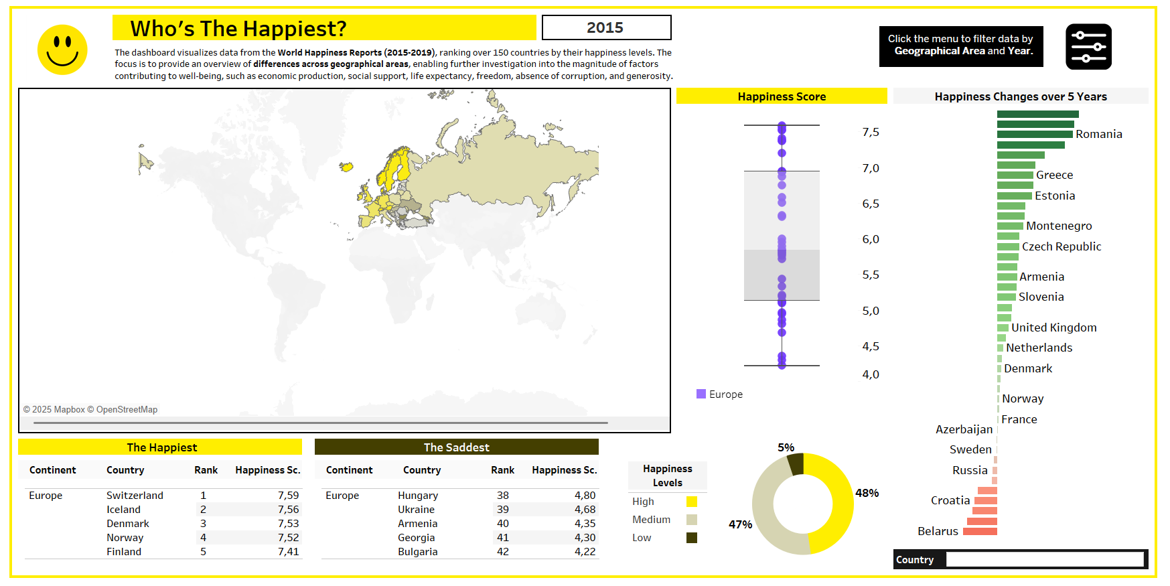

The page's visual inventory and layout, read from the dashboard file:
{"tool":"tableau","page":{"name":"Dashboard 1","canvas":[1720,860],"ordinal":0},"visuals":[{"type":"blank","box":[1175,7,308,32]},{"type":"blank","box":[1483,7,229,106]},{"type":"image","param":"Image/Smile.png","box":[12,12,141.2,109]},{"type":"text","box":[153.2,12,640.8,46]},{"type":"worksheet","title":"Selected Year","mark":"Automatic","box":[794,12,201,46]},{"type":"blank","box":[995,12,33,46]},{"type":"blank","box":[1028,12,264.5,109]},{"type":"text","box":[1292.5,12,264.5,92]},{"type":"blank","box":[1557,12,151,109]},{"type":"dashboard-object","box":[1578,29,72,69]},{"type":"text","box":[1175,39,308,32]},{"type":"text","box":[153.2,58,874.8,63]},{"type":"parameter","param":"[Parameters].[Parametro 2]","box":[1175,71,308,180]},{"type":"text","box":[1483,113,229,31]},{"type":"worksheet","title":"World Happiness Rank (Map)","mark":"Multipolygon","box":[12,121,983,524]},{"type":"text","box":[995,121,323,32]},{"type":"text","box":[1319,121,389,32]},{"type":"parameter","param":"[Parameters].[Parametro 1]","box":[1483,144,229,107]},{"type":"worksheet","title":"Global Happiness Score per Continent","mark":"Circle","rows":["Happiness Rank per Year (copia)_801922231594545152","Happiness Rank per Year (copia)_801922231594545152"],"box":[995,153,323,415]},{"type":"worksheet","title":"Happiness Score % Change (5y)","mark":"Automatic","rows":["Country"],"cols":["Calculation_801922231886446605"],"box":[1319,153,389,656.8]},{"type":"legend","title":"Global Happiness Score per Continent","param":"[federated.0av59c308uzitr1gjwh8u0oohdn7].[none:Continent:nk]","box":[995,568,323,29]},{"type":"text","box":[12,645,443,32]},{"type":"text","box":[455,645,443,32]},{"type":"blank","box":[922.7,645,126,33.5]},{"type":"worksheet","title":"Pie Chart","mark":"Pie","cols":["Calculation_927741547938185227","Calculation_927741547938185227"],"box":[1056.7,645,262.3,203]},{"type":"text","box":[12,677,443,32]},{"type":"text","box":[455,677,443,32]},{"type":"text","box":[922.7,678.5,126,46]},{"type":"worksheet","title":"Rank Happiness per Continent (Top)","mark":"Text","rows":["Continent","Country"],"box":[12,709,443,139]},{"type":"worksheet","title":"Rank Happiness per Continent (Worst)","mark":"Text","rows":["Continent","Country"],"box":[455,709,443,139]},{"type":"worksheet","title":"Pie Chart labels","mark":"Square","rows":["Calculation_927741547845664770"],"box":[922.7,724.5,126,90]},{"type":"filter","title":"Happiness Score % Change (5y)","param":"[federated.0av59c308uzitr1gjwh8u0oohdn7].[none:Country:nk]","box":[1319,809.8,389,38]},{"type":"blank","box":[922.7,814.5,126,33.5]}]}

Visuals, with their boxes in screenshot pixels (x1, y1, x2, y2), scaled from the page's 1720x860 canvas onto the 1170x586 screenshot:
blank: <region>799, 5, 1009, 27</region>
blank: <region>1009, 5, 1165, 77</region>
image: <region>8, 8, 104, 82</region>
text: <region>104, 8, 540, 40</region>
"Selected Year" worksheet: <region>540, 8, 677, 40</region>
blank: <region>677, 8, 699, 40</region>
blank: <region>699, 8, 879, 82</region>
text: <region>879, 8, 1059, 71</region>
blank: <region>1059, 8, 1162, 82</region>
dashboard-object: <region>1073, 20, 1122, 67</region>
text: <region>799, 27, 1009, 48</region>
text: <region>104, 40, 699, 82</region>
parameter: <region>799, 48, 1009, 171</region>
text: <region>1009, 77, 1165, 98</region>
"World Happiness Rank (Map)" worksheet (Multipolygon marks): <region>8, 82, 677, 440</region>
text: <region>677, 82, 897, 104</region>
text: <region>897, 82, 1162, 104</region>
parameter: <region>1009, 98, 1165, 171</region>
"Global Happiness Score per Continent" worksheet (Circle marks): <region>677, 104, 897, 387</region>
"Happiness Score % Change (5y)" worksheet: <region>897, 104, 1162, 552</region>
"Global Happiness Score per Continent" legend: <region>677, 387, 897, 407</region>
text: <region>8, 440, 310, 461</region>
text: <region>310, 440, 611, 461</region>
blank: <region>628, 440, 713, 462</region>
"Pie Chart" worksheet (Pie marks): <region>719, 440, 897, 578</region>
text: <region>8, 461, 310, 483</region>
text: <region>310, 461, 611, 483</region>
text: <region>628, 462, 713, 494</region>
"Rank Happiness per Continent (Top)" worksheet (Text marks): <region>8, 483, 310, 578</region>
"Rank Happiness per Continent (Worst)" worksheet (Text marks): <region>310, 483, 611, 578</region>
"Pie Chart labels" worksheet (Square marks): <region>628, 494, 713, 555</region>
"Happiness Score % Change (5y)" filter: <region>897, 552, 1162, 578</region>
blank: <region>628, 555, 713, 578</region>
